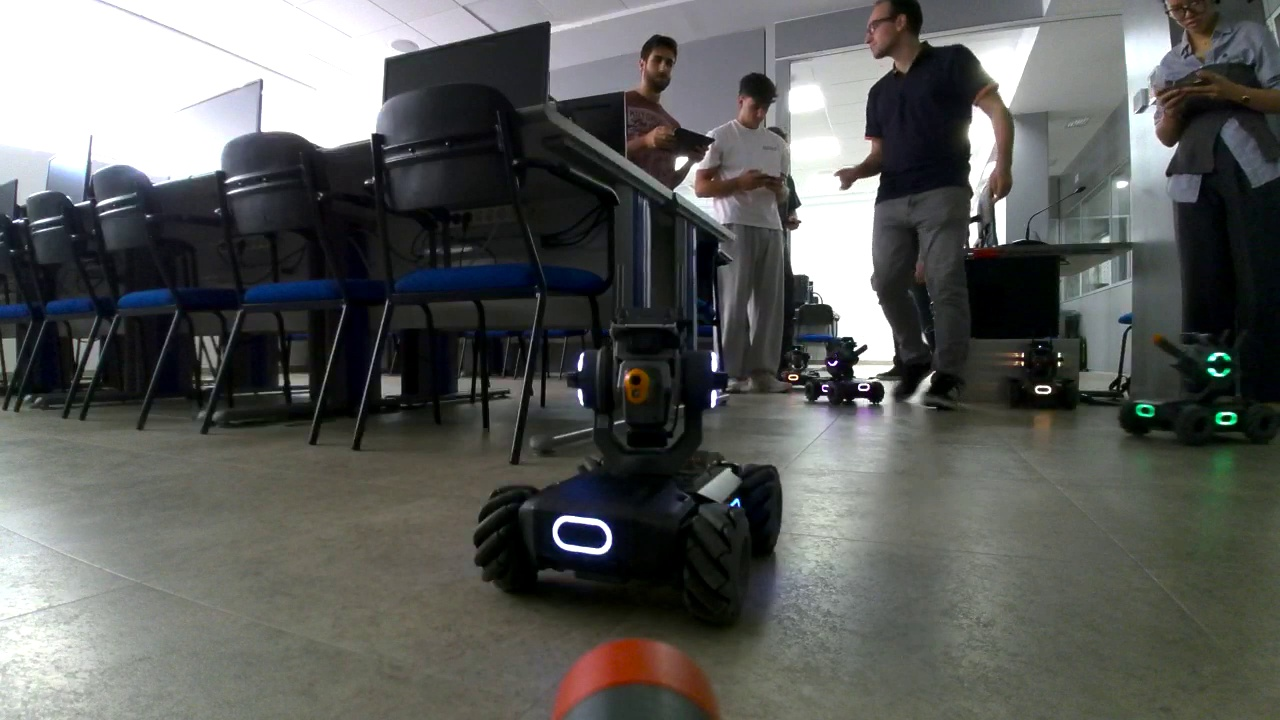robot: (474, 262, 781, 630), (1121, 325, 1280, 445), (802, 343, 886, 406), (1009, 335, 1078, 408), (780, 346, 821, 385)
